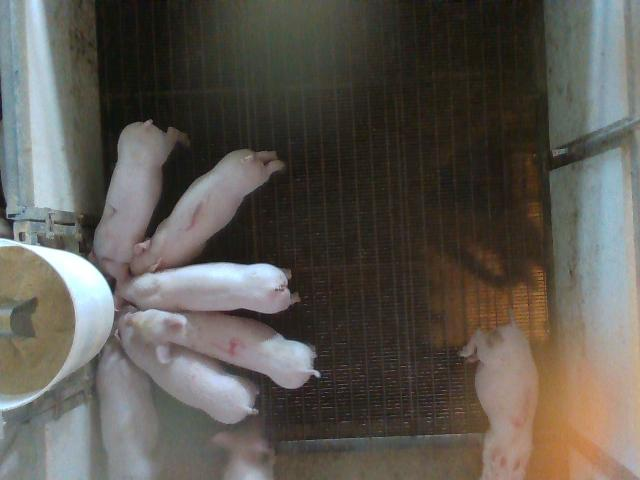pig-1: (130, 150, 285, 275)
pig-3: (461, 321, 538, 478)
pig-4: (125, 309, 320, 389)
